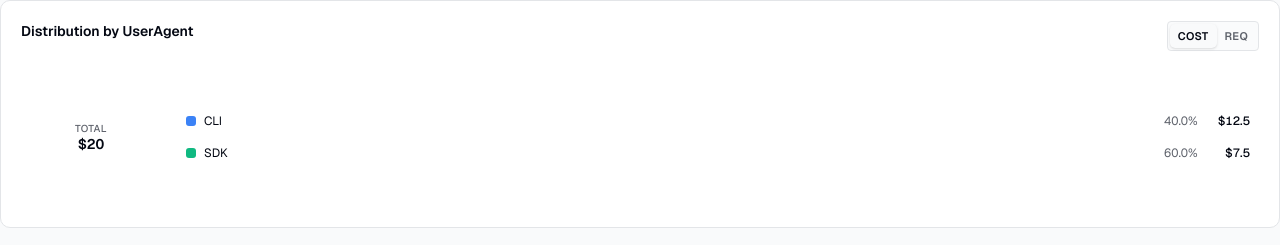
it: UseragentDistributionDonut › uses compact request totals in the center and legend when request mode is active
Click the button "req".
click(1236, 36)  # box [1216,24,1256,48]
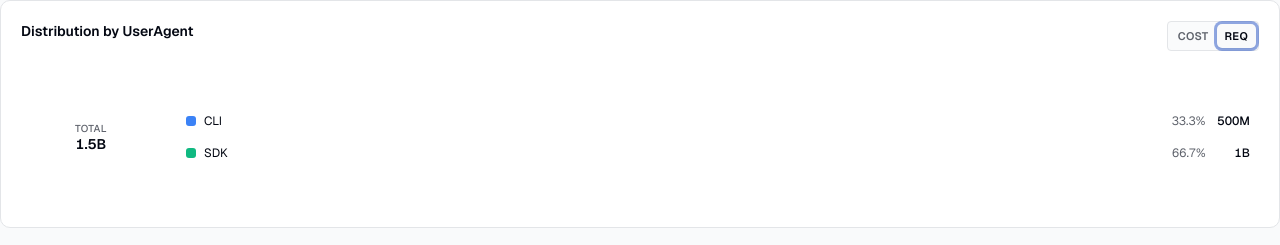
Expected: the text with test id "useragent-distribution-center-value" reads "1.5B", [76,135,106,153]
Expected: the text "500M" is shown, [1217,113,1250,129]
Expected: the text "1B" is shown, [1234,145,1250,161]
